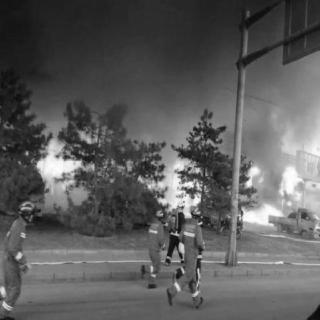Fire: (153, 156, 204, 210)
